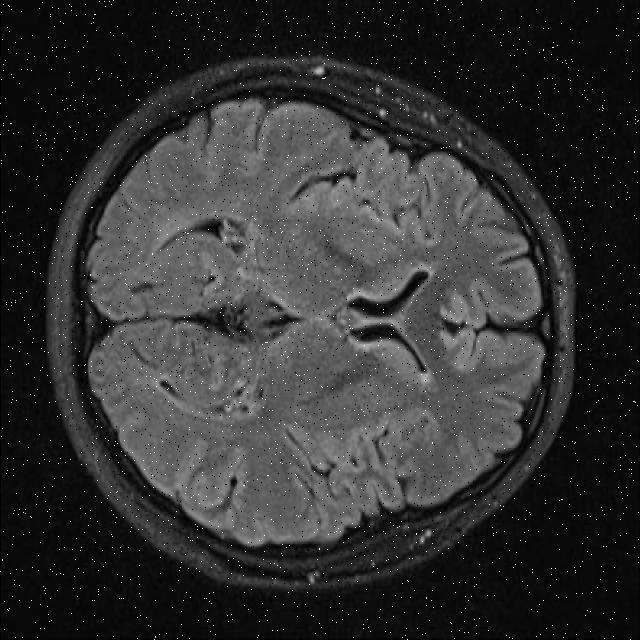No_Tumor: (48, 57, 573, 589)
